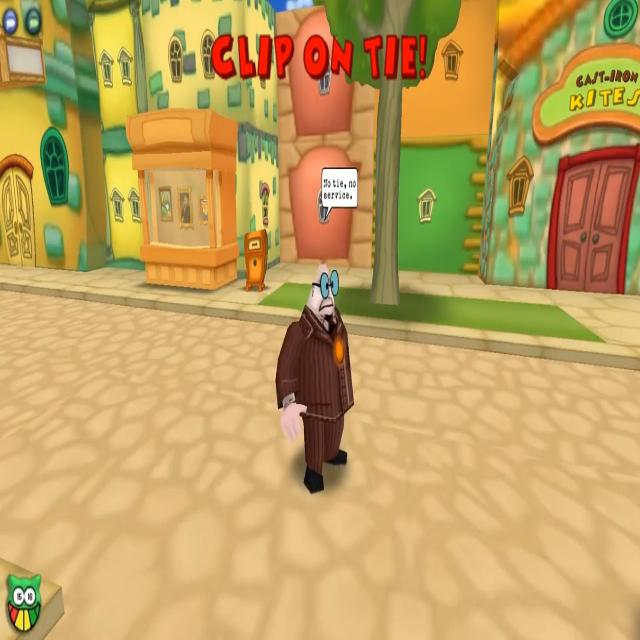flunky: (272, 166, 364, 502)
